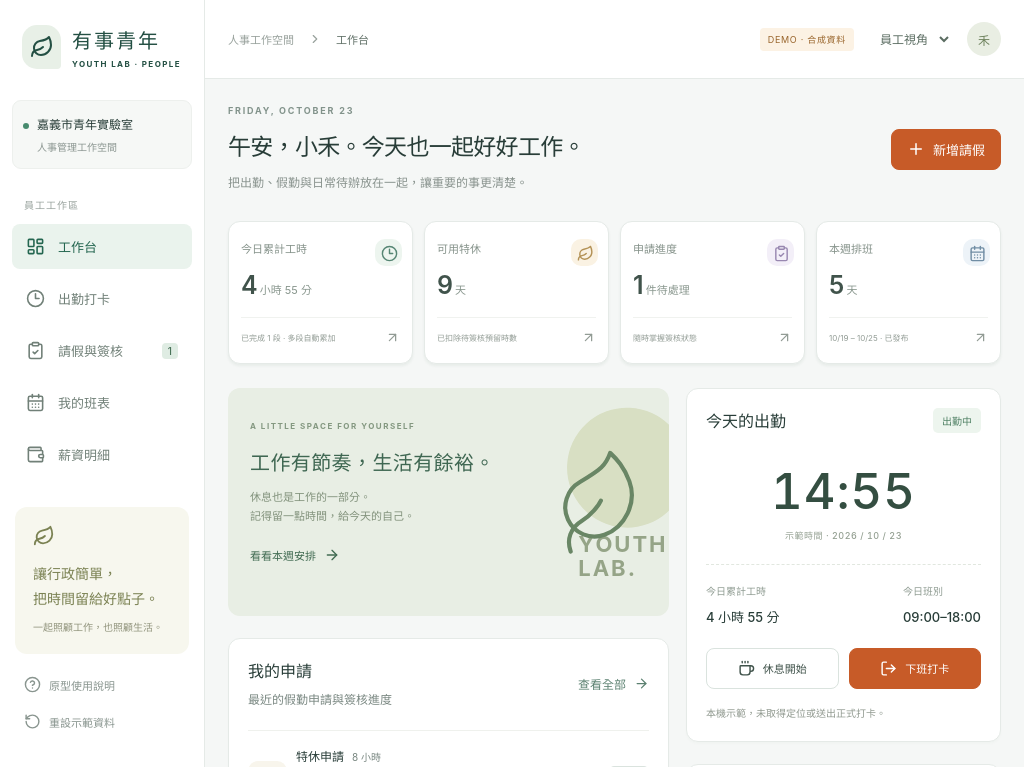
Scenario: 原型操作 › 多段打卡休息、恢復與下班都產生狀態
Click the button "出勤打卡".
click(102, 298)  # box [12, 276, 192, 321]
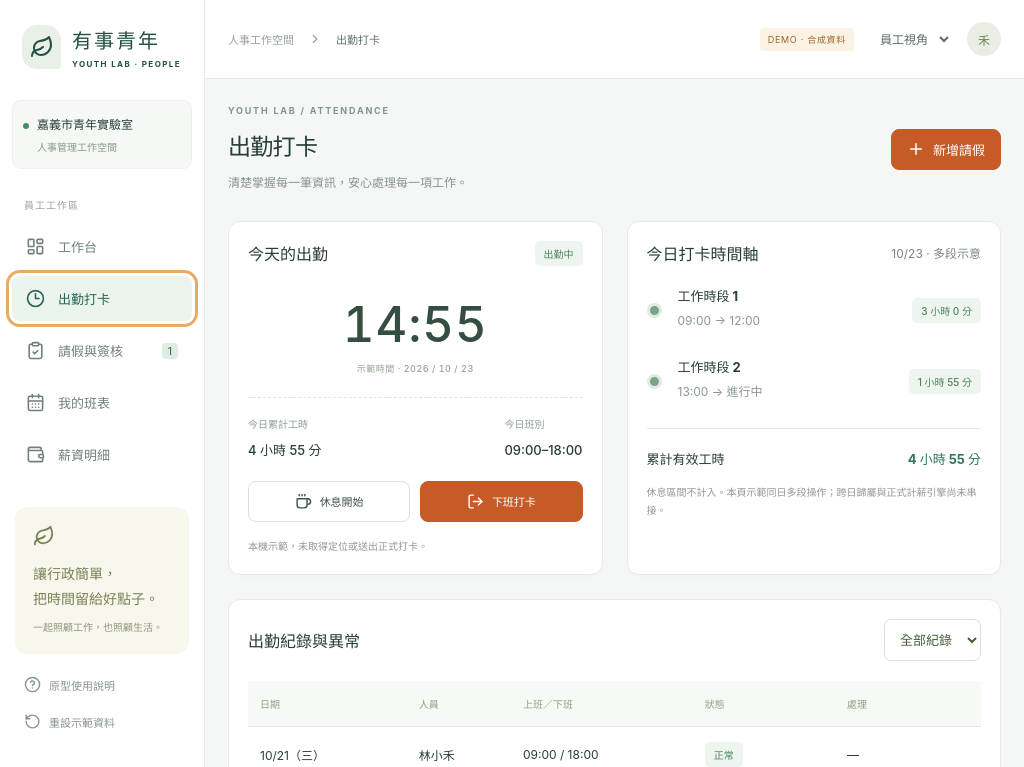
Click the button "休息開始".
click(329, 501)  # box [248, 481, 410, 522]
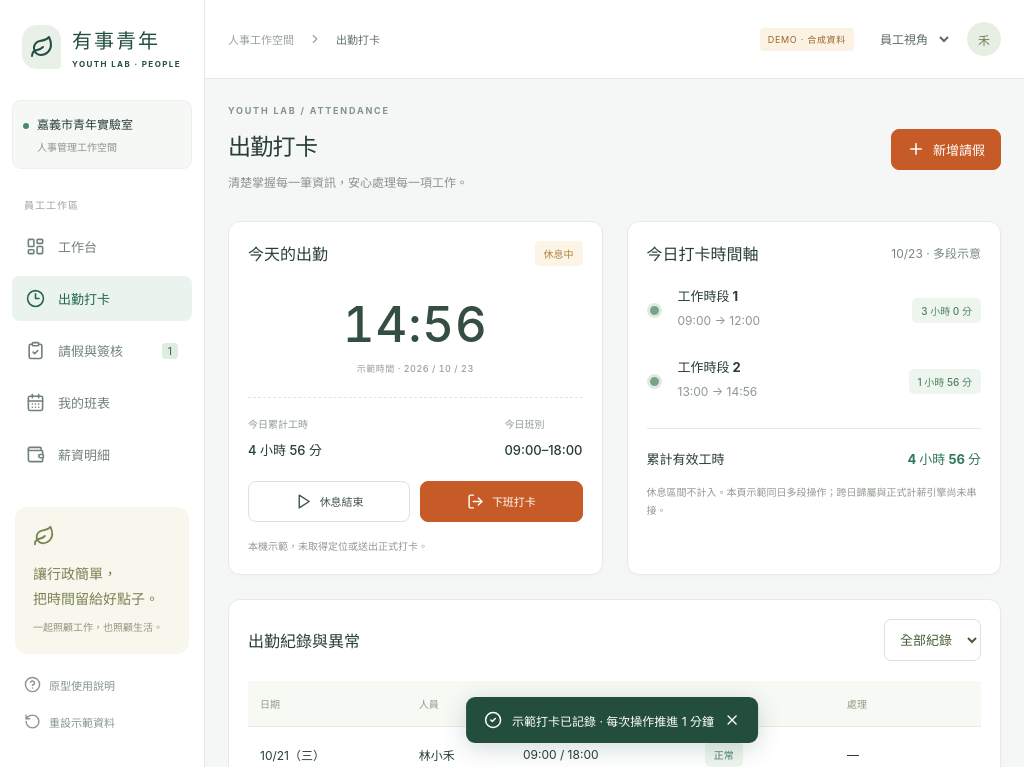
Expected: the text "休息中" is shown, [534, 241, 582, 266]
Click the button "休息結束".
click(329, 501)  # box [248, 481, 410, 522]
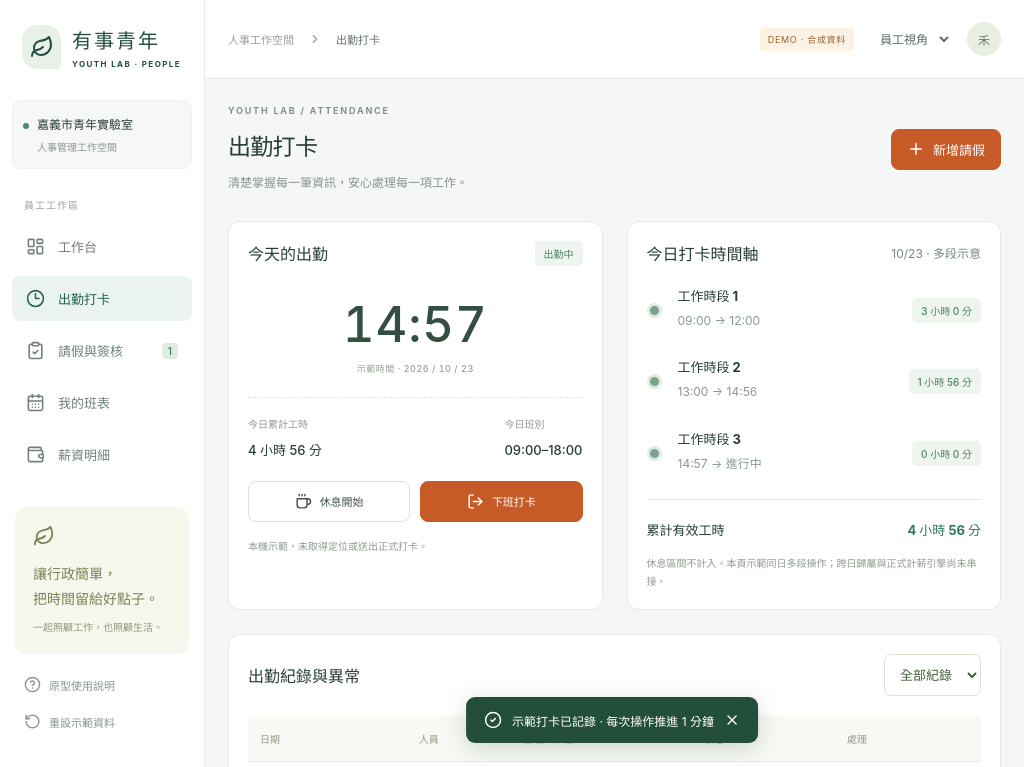
Expected: the text "工作時段 3" is shown, [678, 431, 741, 447]
Click the button "下班打卡".
click(501, 501)  # box [420, 481, 583, 522]
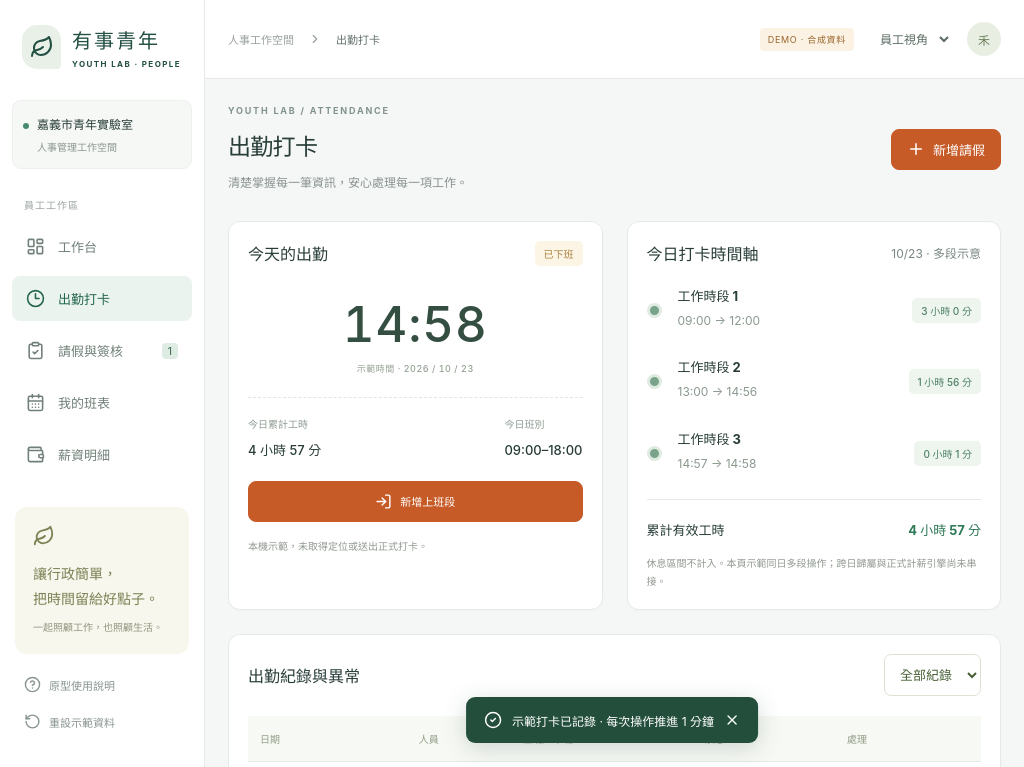
Expected: the text "已下班" is shown, [534, 241, 582, 266]
Click the button "新增上班段".
click(415, 501)  # box [248, 481, 582, 522]
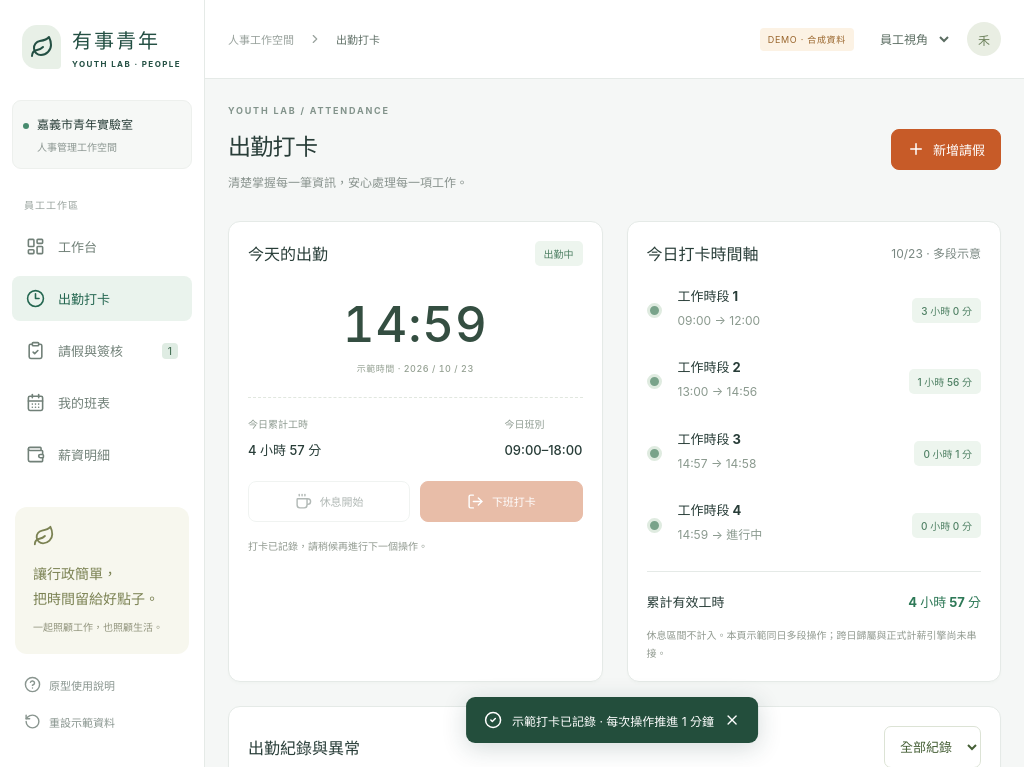
Expected: the text "工作時段 4" is shown, [678, 502, 741, 518]
